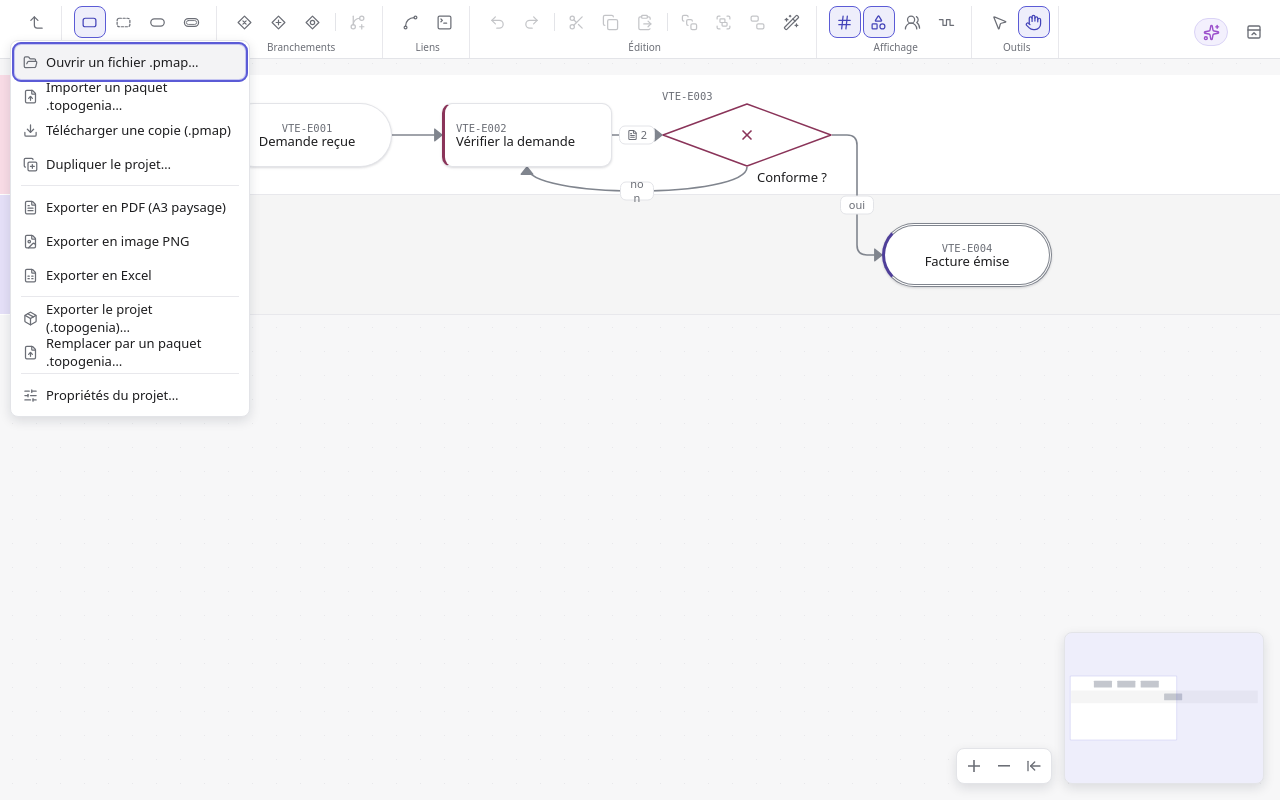
Test: the dialogs of the File menu (B-2.4-53, B-2.4-55, ADR 058) › « Exporter le projet » opens the export of the package of the project
What coordinates should you click on to do the following:
click the menu item with test id "menu-file-file.export"
I would click on:
 (130, 318)
Its box is x1=15 y1=301 x2=245 y2=335.
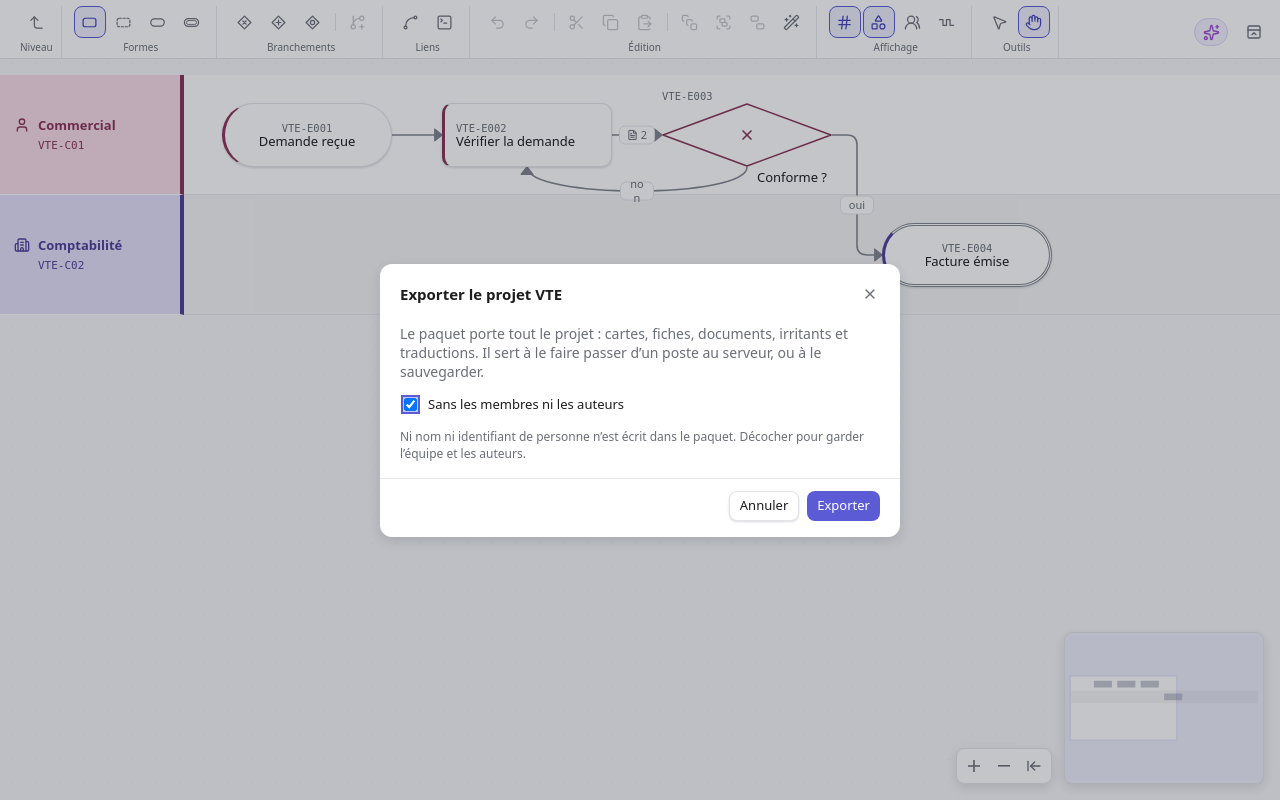
Expected: the dialog "Exporter le projet VTE" is shown, x1=380 y1=264 x2=900 y2=536
